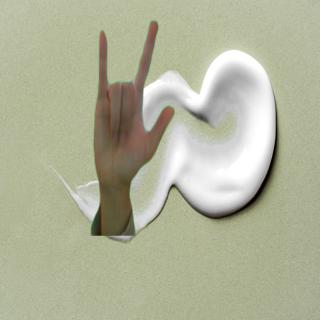ILY: (92, 19, 176, 193)
